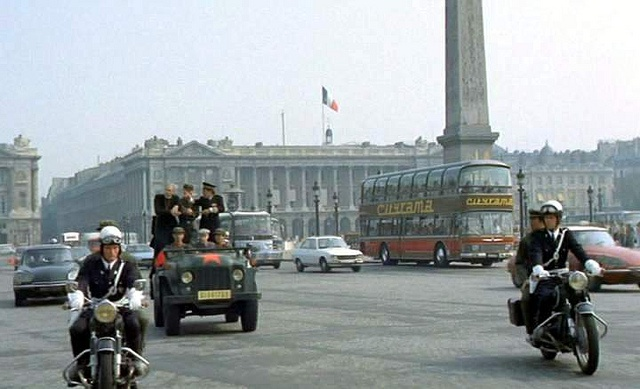non-vehicle: (507, 262, 607, 376), (64, 278, 149, 388)
